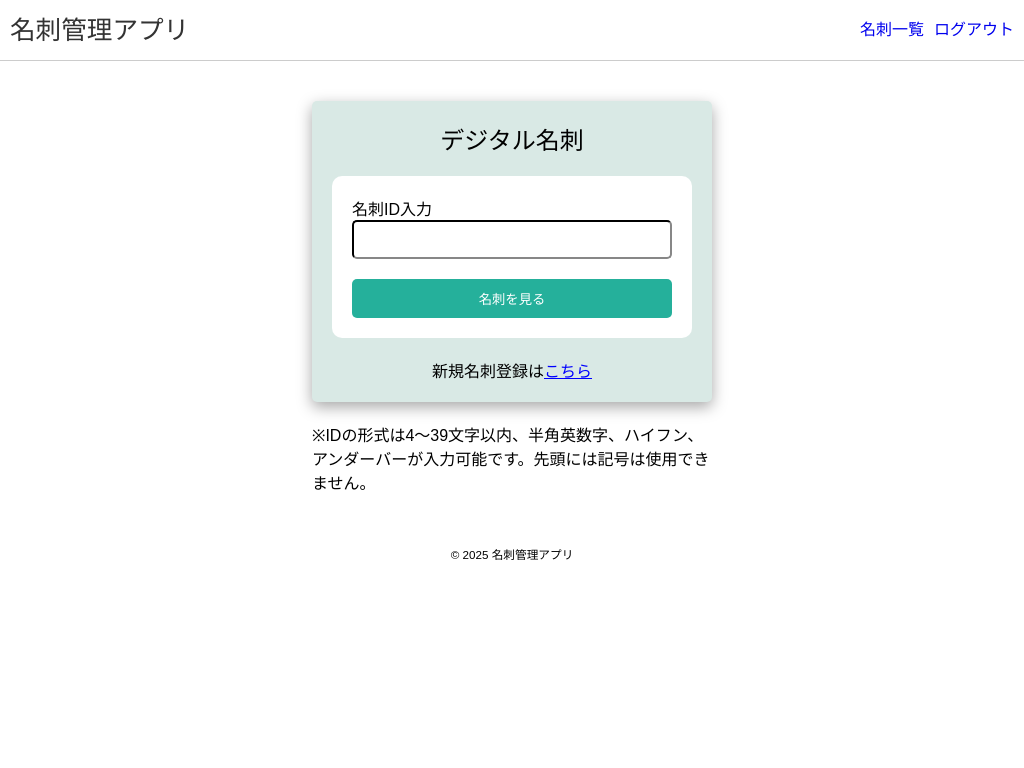
Test: Appコンポーネントの動作確認 › トップページのテスト › IDを入力しないでボタンを押すとエラーメッセージが表示される
The width and height of the screenshot is (1024, 768).
Click the button with test id "view-button".
click(512, 298)  # box [352, 279, 672, 318]
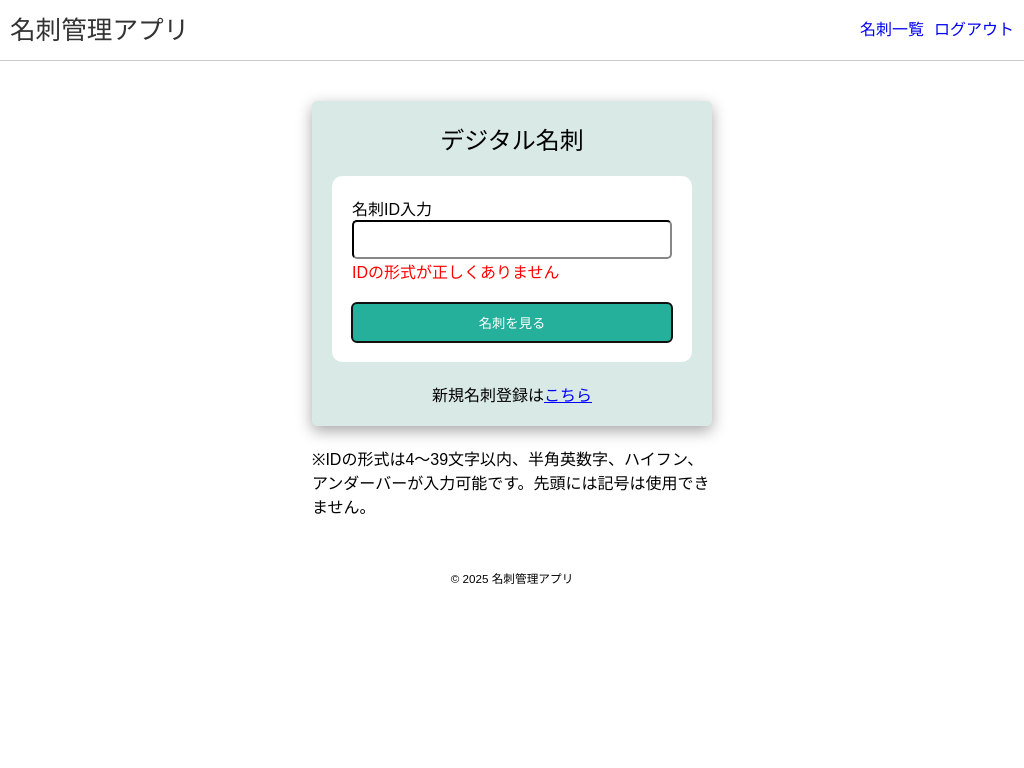
Check: the text with test id "error" reads "IDの形式が正しくありません", box [352, 264, 560, 281]
